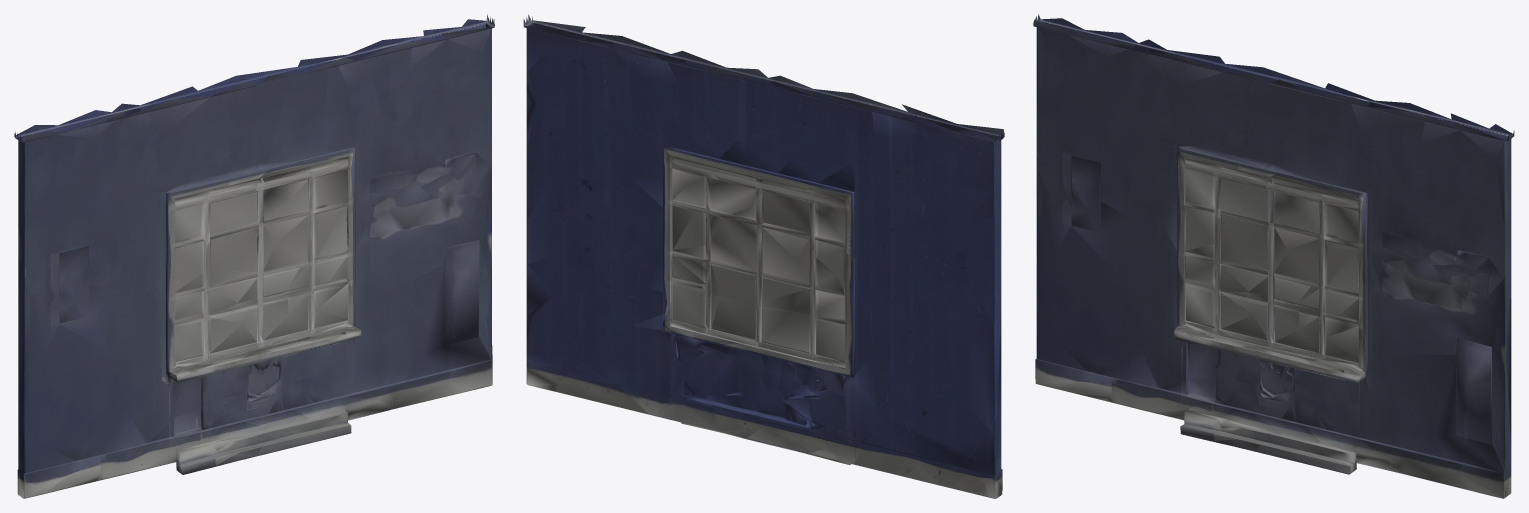
Rendered from wall_window.glb.
The picture shows the model from 3 angles, left to right: view 1: azimuth 30°, elevation 25°; view 2: azimuth 150°, elevation 25°; view 3: azimuth 330°, elevation 25°; orthographic projection.
Parts seen in each view (by area): view 1: Industrial_wall_window; view 2: Industrial_wall_window; view 3: Industrial_wall_window.
Part boxes in pixels (x1,y1,x2,y2): Industrial_wall_window: (14, 14, 494, 498); Industrial_wall_window: (523, 14, 1004, 498); Industrial_wall_window: (1033, 14, 1514, 498).
Bounding box in the file's own units: 4 × 3 × 0.2201.
Materials: 1 (1 with a texture image).
